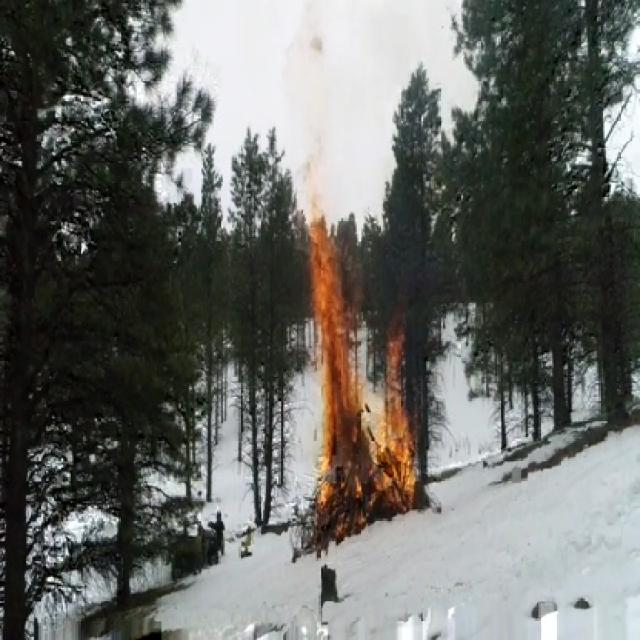Fire: (302, 175, 420, 548)
